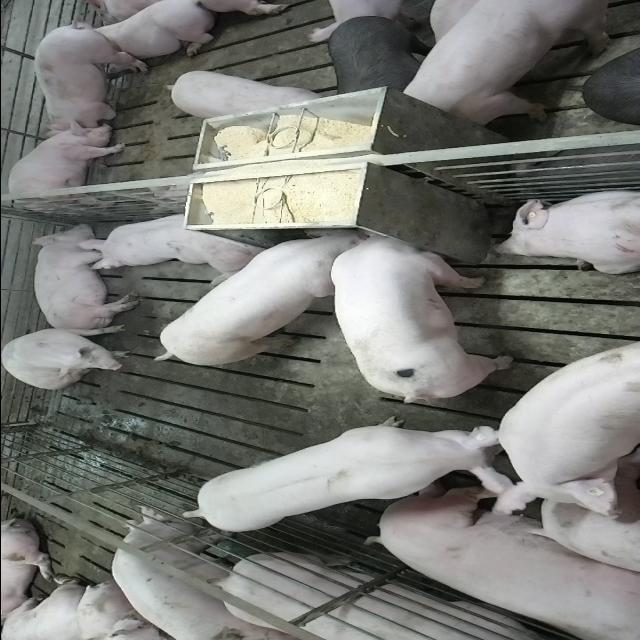Feeding: (328, 222, 516, 396), (146, 230, 364, 370)
Lateral_lying: (366, 474, 640, 637), (26, 223, 140, 333)
Sitting: (1, 325, 140, 389)
Standing: (180, 419, 524, 537), (214, 551, 626, 640), (489, 342, 640, 525), (394, 1, 614, 124), (108, 512, 278, 640), (29, 24, 150, 132), (5, 122, 130, 208), (162, 67, 326, 119), (322, 16, 430, 94)
Sternal_lying: (76, 208, 262, 280), (488, 186, 640, 274), (77, 1, 215, 59)
